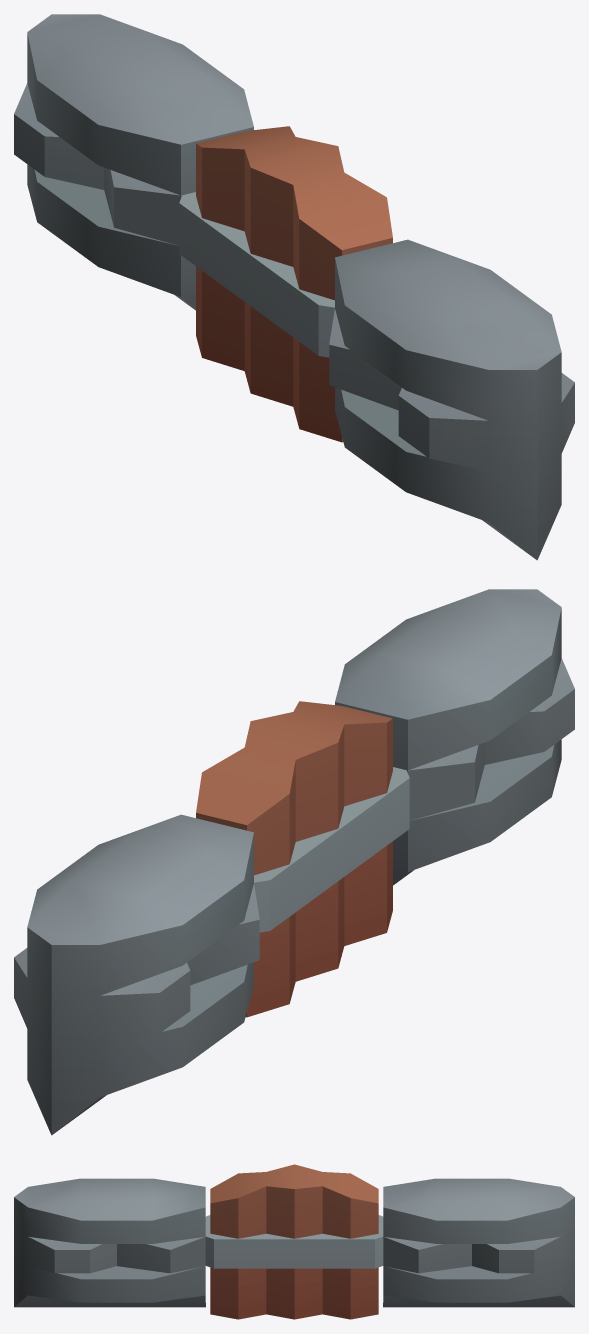
File: fence_stone_straight_gate.gltf
The picture shows the model from 3 angles, top to bottom: view 1: azimuth 30°, elevation 25°; view 2: azimuth 150°, elevation 25°; view 3: azimuth 270°, elevation 25°; orthographic projection. The views are drawn at different scales.
Visible parts, largest first — view 1: fence_stone_straight_gate, fence_stone_straight_door; view 2: fence_stone_straight_gate, fence_stone_straight_door; view 3: fence_stone_straight_gate, fence_stone_straight_door.
Boxes of the visible parts, box(x1,y1,x2,y2) form: fence_stone_straight_gate: box(14, 14, 574, 560); fence_stone_straight_door: box(179, 126, 392, 442); fence_stone_straight_gate: box(14, 589, 574, 1135); fence_stone_straight_door: box(196, 701, 409, 1017); fence_stone_straight_gate: box(14, 1178, 574, 1307); fence_stone_straight_door: box(205, 1164, 383, 1319).
Bounding box in the file's own units: 0.2 × 0.2963 × 1.15.
1 material, 1 textured.
